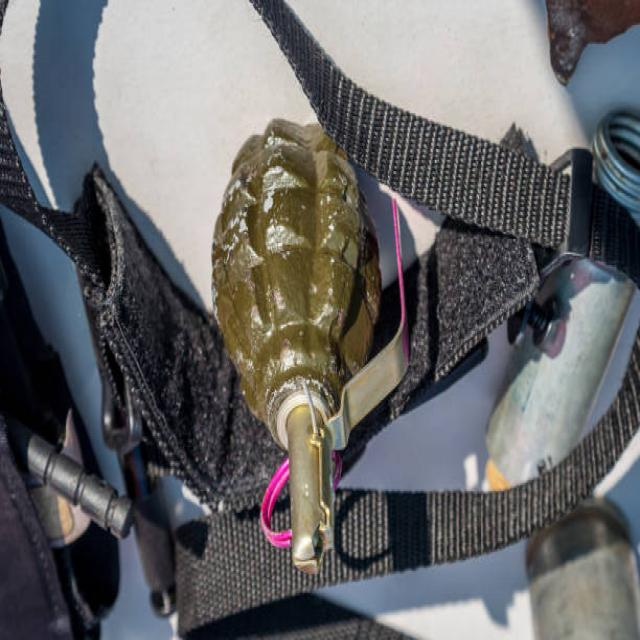grenade: (209, 114, 412, 577)
